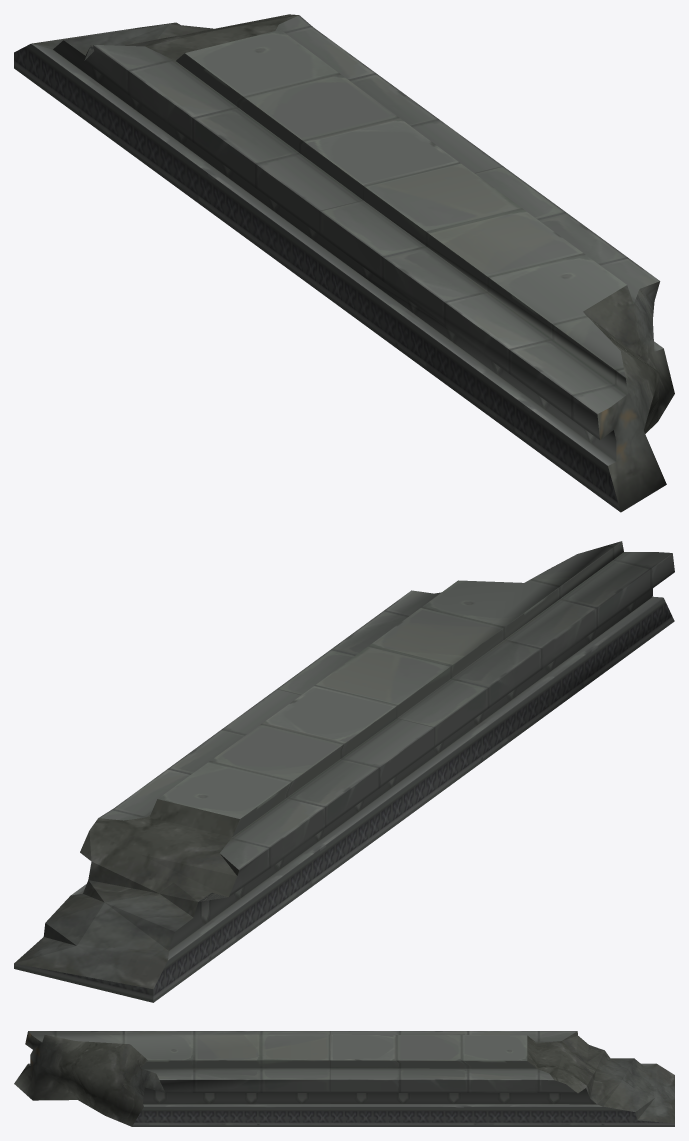
Rendered from sc_dungeon_moshenta_zhuantou_002_a.FBX.
3 renders of one model, top to bottom at view 1: azimuth 30°, elevation 25°; view 2: azimuth 150°, elevation 25°; view 3: azimuth 270°, elevation 25°, orthographic. The views are drawn at different scales.
Visible parts, largest first — view 1: sc_dungeon_moshenta_zhuantou_002_a; view 2: sc_dungeon_moshenta_zhuantou_002_a; view 3: sc_dungeon_moshenta_zhuantou_002_a.
Part boxes in pixels (left/top/right/bottom): sc_dungeon_moshenta_zhuantou_002_a: left=14, top=14, right=674, bottom=512; sc_dungeon_moshenta_zhuantou_002_a: left=14, top=541, right=674, bottom=1002; sc_dungeon_moshenta_zhuantou_002_a: left=14, top=1031, right=674, bottom=1126.
Size of the model in its own units: 2.11 by 1.15 by 11.97.
1 material, 1 textured.
